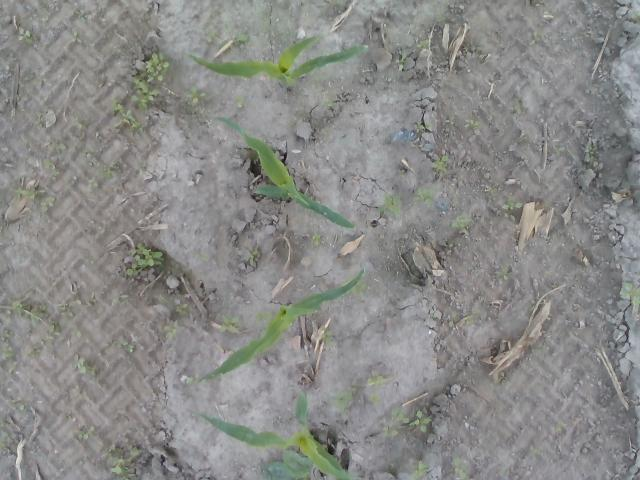Maize: (186, 266, 367, 387), (210, 114, 354, 228), (192, 391, 354, 480), (186, 34, 368, 93)
Weeds: (130, 49, 170, 113), (383, 406, 433, 437), (111, 95, 144, 135), (126, 243, 166, 276), (104, 446, 142, 480), (12, 299, 50, 329), (41, 143, 66, 178), (48, 302, 73, 334), (376, 192, 402, 219), (502, 196, 522, 223), (448, 456, 469, 480), (13, 185, 46, 200), (414, 185, 434, 209), (218, 314, 242, 334), (622, 279, 640, 305), (102, 160, 121, 184), (73, 359, 97, 378), (431, 154, 449, 178), (334, 390, 354, 410), (448, 213, 472, 229), (186, 85, 206, 104), (413, 458, 430, 480), (0, 415, 11, 449), (494, 264, 512, 284), (322, 328, 336, 352), (16, 26, 34, 44), (0, 344, 18, 362), (367, 370, 386, 387), (78, 424, 97, 441), (70, 111, 86, 130), (352, 278, 368, 295), (246, 247, 261, 265), (40, 196, 56, 212), (175, 302, 191, 318), (256, 310, 272, 326), (318, 125, 332, 143), (444, 112, 459, 128), (585, 144, 598, 162), (16, 404, 34, 416), (206, 30, 220, 44), (235, 31, 250, 44), (394, 56, 406, 72), (370, 390, 382, 406), (35, 112, 46, 129), (88, 176, 99, 193), (417, 38, 432, 50), (528, 445, 540, 460), (134, 158, 144, 176), (464, 119, 480, 130), (24, 350, 40, 361), (112, 294, 128, 305), (81, 147, 98, 157), (320, 98, 337, 108), (0, 311, 13, 324), (163, 325, 177, 337), (514, 98, 524, 114), (0, 329, 12, 342), (311, 232, 322, 246), (232, 96, 246, 106), (528, 31, 540, 42), (533, 342, 544, 354), (72, 32, 83, 44), (122, 342, 135, 352), (157, 295, 170, 305), (416, 122, 432, 130), (264, 15, 272, 31), (71, 327, 82, 338), (435, 15, 448, 24), (462, 313, 472, 324), (631, 12, 640, 24), (185, 376, 198, 384), (45, 334, 55, 344), (554, 144, 562, 156), (78, 15, 88, 24), (487, 185, 497, 193), (502, 376, 512, 384), (282, 142, 288, 152), (200, 255, 210, 261), (288, 320, 296, 327), (528, 303, 534, 312)
